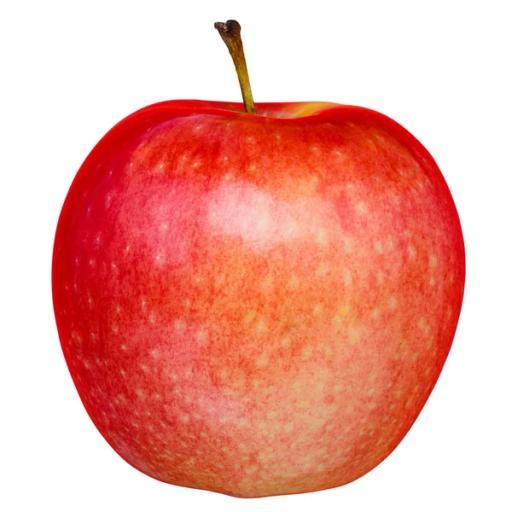apple: (53, 101, 465, 496)
